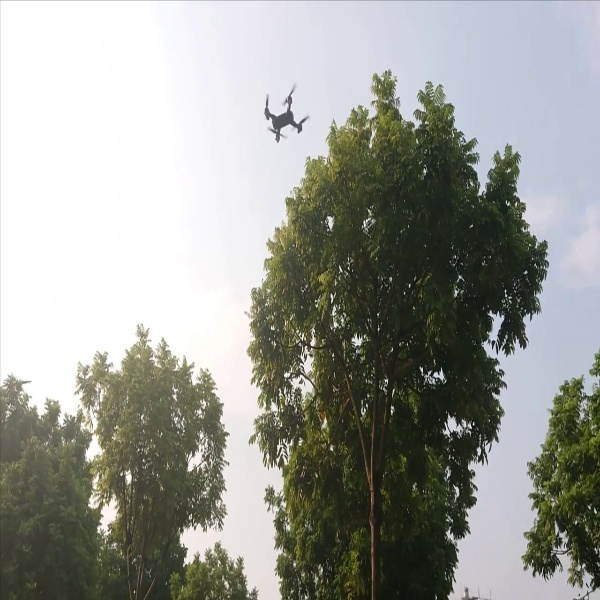drone: (256, 80, 314, 146)
